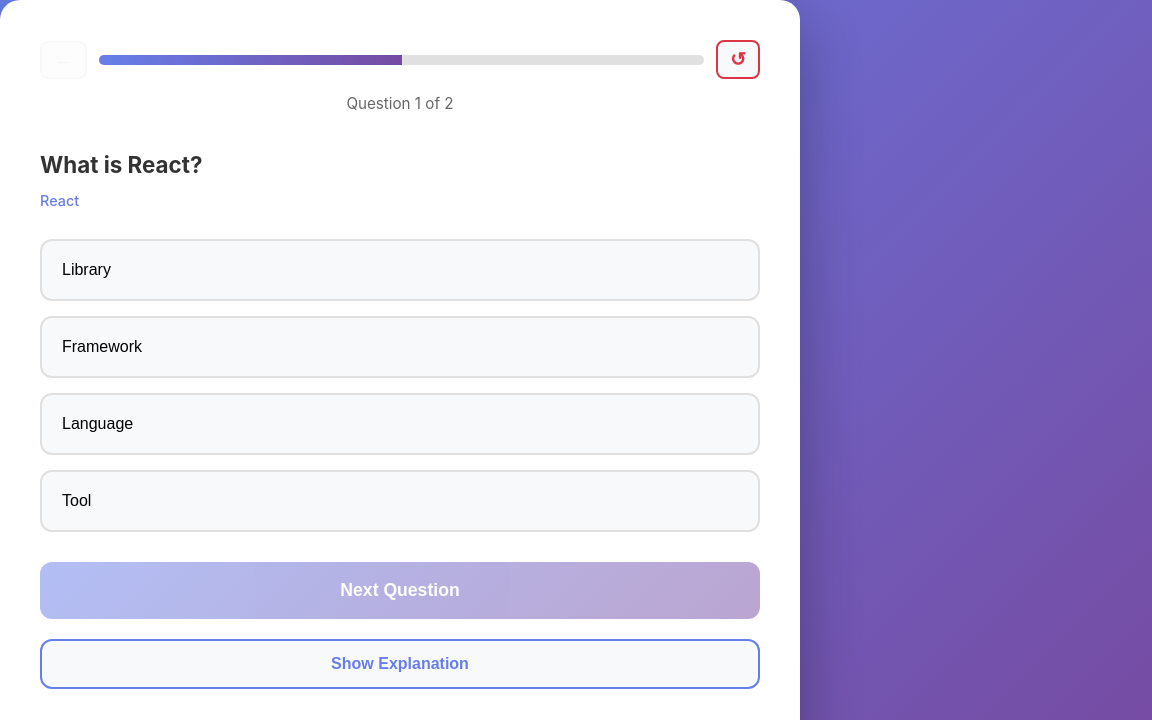
Scenario: QuizScreen - Reset Button › should not lose quiz progress when reset is not clicked
The width and height of the screenshot is (1152, 720).
Click the button "Library": x=86, y=269 [40,239,760,301]
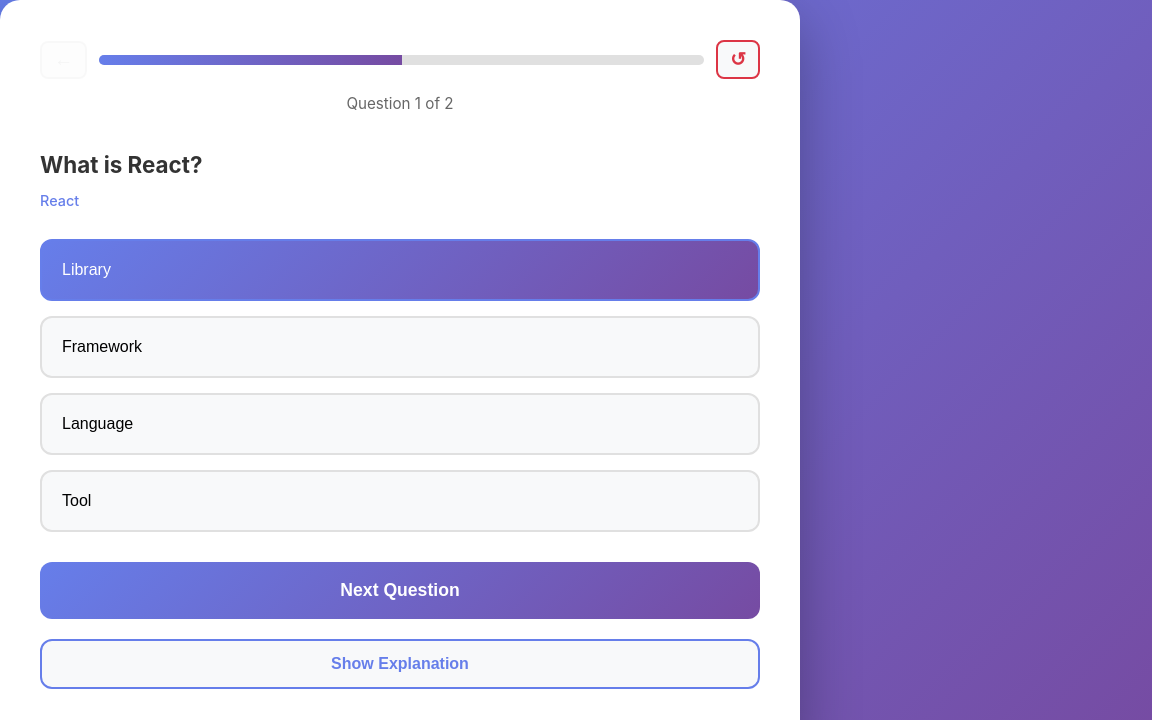
Move to next question
Click the button "Next Question": x=400, y=590 [40,562,760,619]
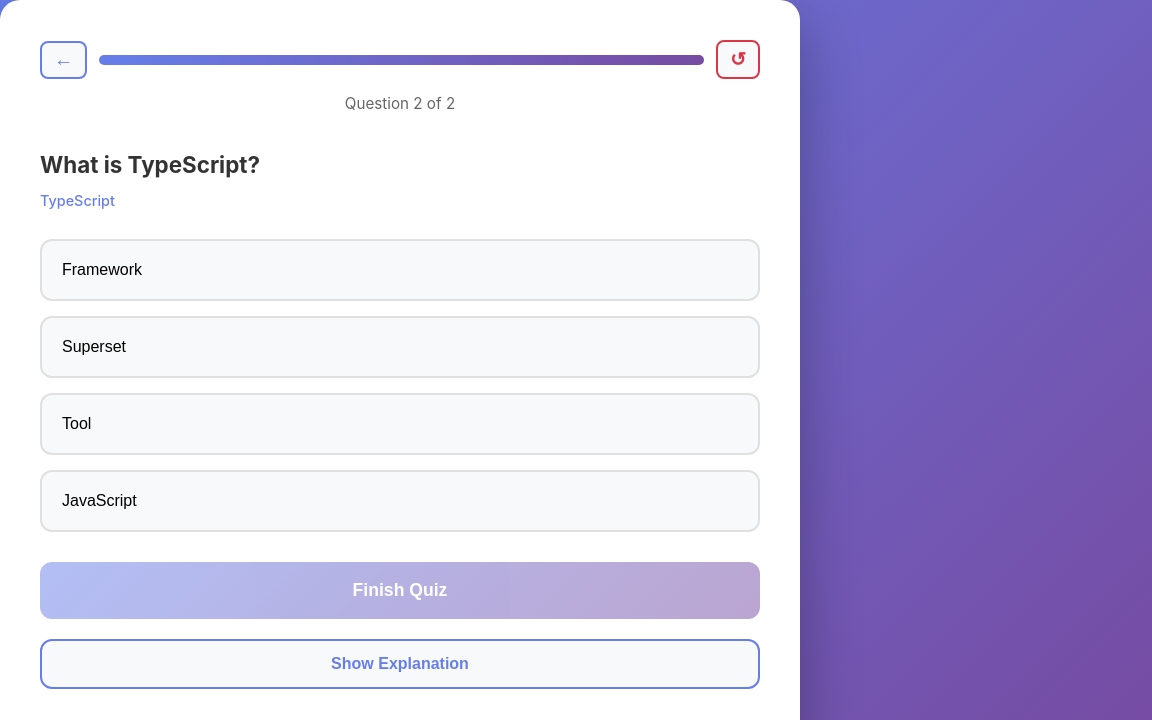
Expected: the text "Question 2 of 2" is shown, [345,94,455,113]
